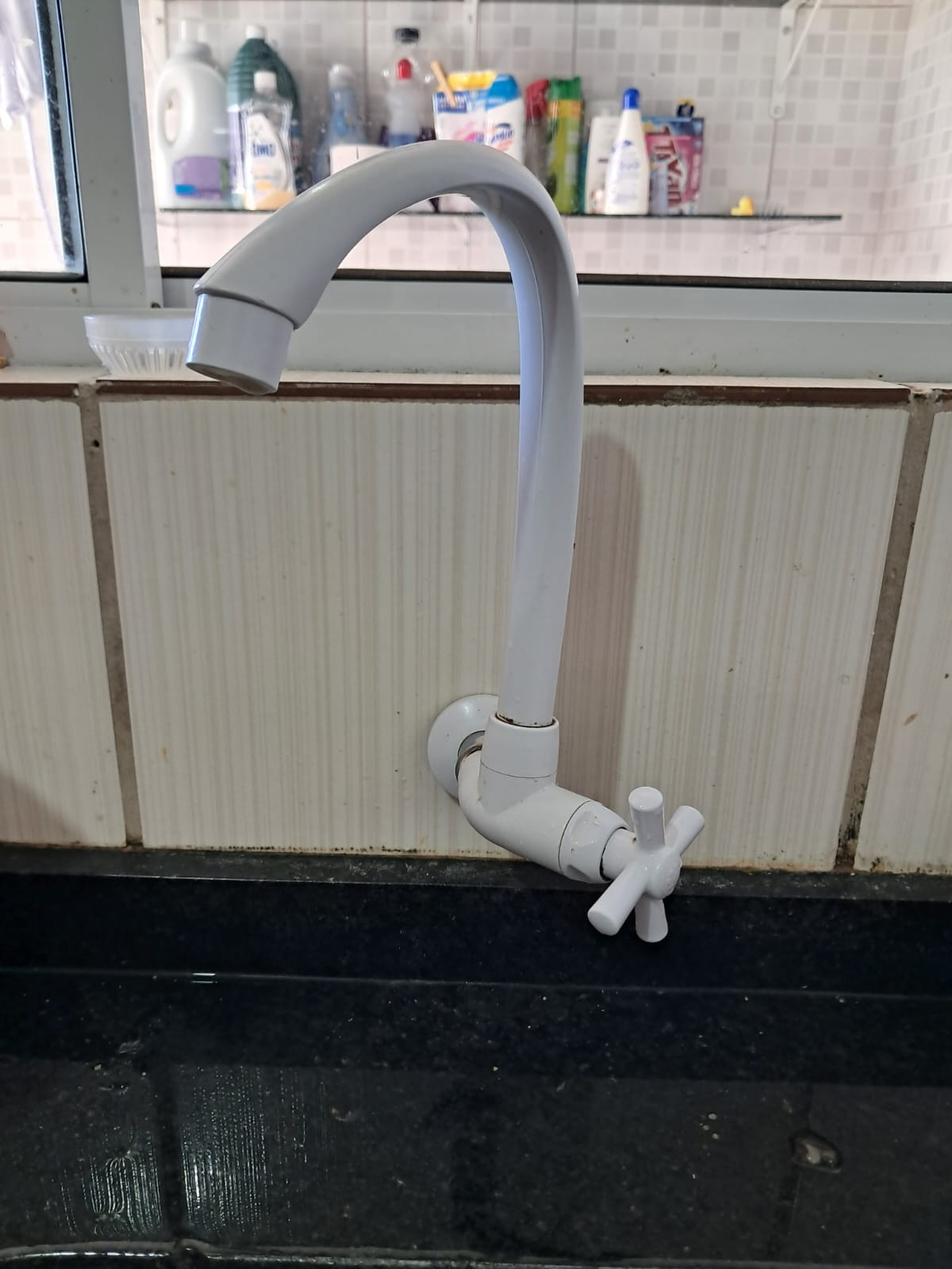torneira_fechada: (163, 131, 726, 979)
